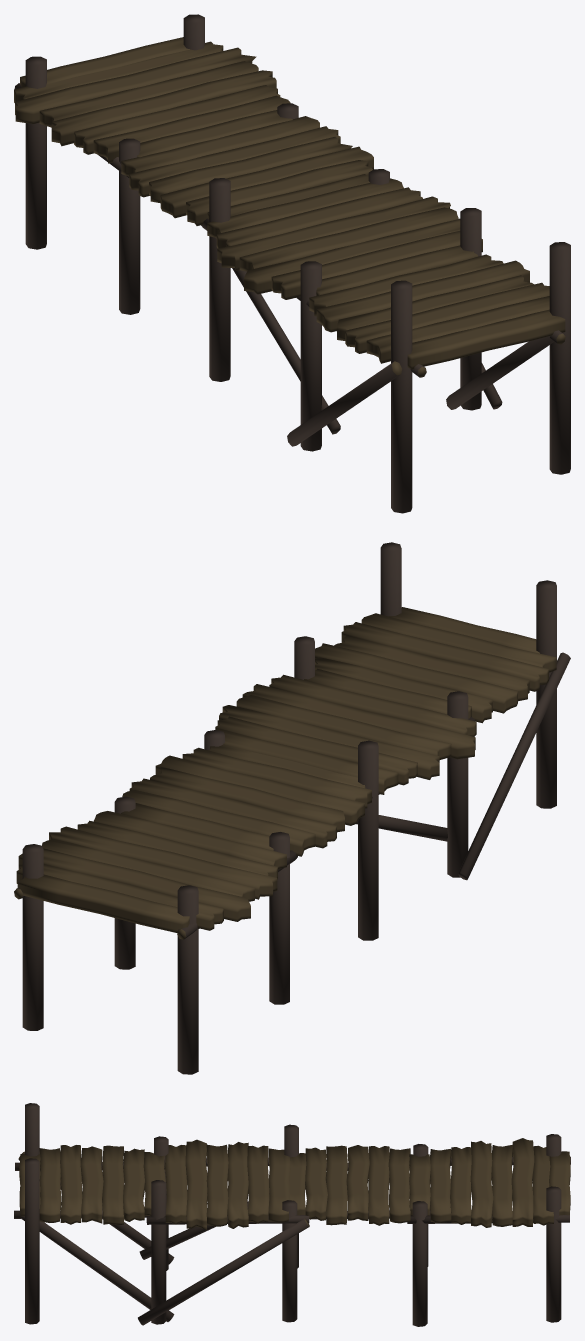
File: Ponton.fbx
3 views of the same model, one above another, from view 1: azimuth 30°, elevation 25°; view 2: azimuth 150°, elevation 25°; view 3: azimuth 270°, elevation 25° (orthographic). The views are drawn at different scales.
Visible parts, largest first — view 1: Cube.010; view 2: Cube.010; view 3: Cube.010.
Part boxes in pixels (x1=…): Cube.010: x1=14, y1=14, x2=570, y2=513; Cube.010: x1=14, y1=542, x2=570, y2=1074; Cube.010: x1=14, y1=1103, x2=570, y2=1326.
Size of the model in its own units: 445 by 418 by 1284.
